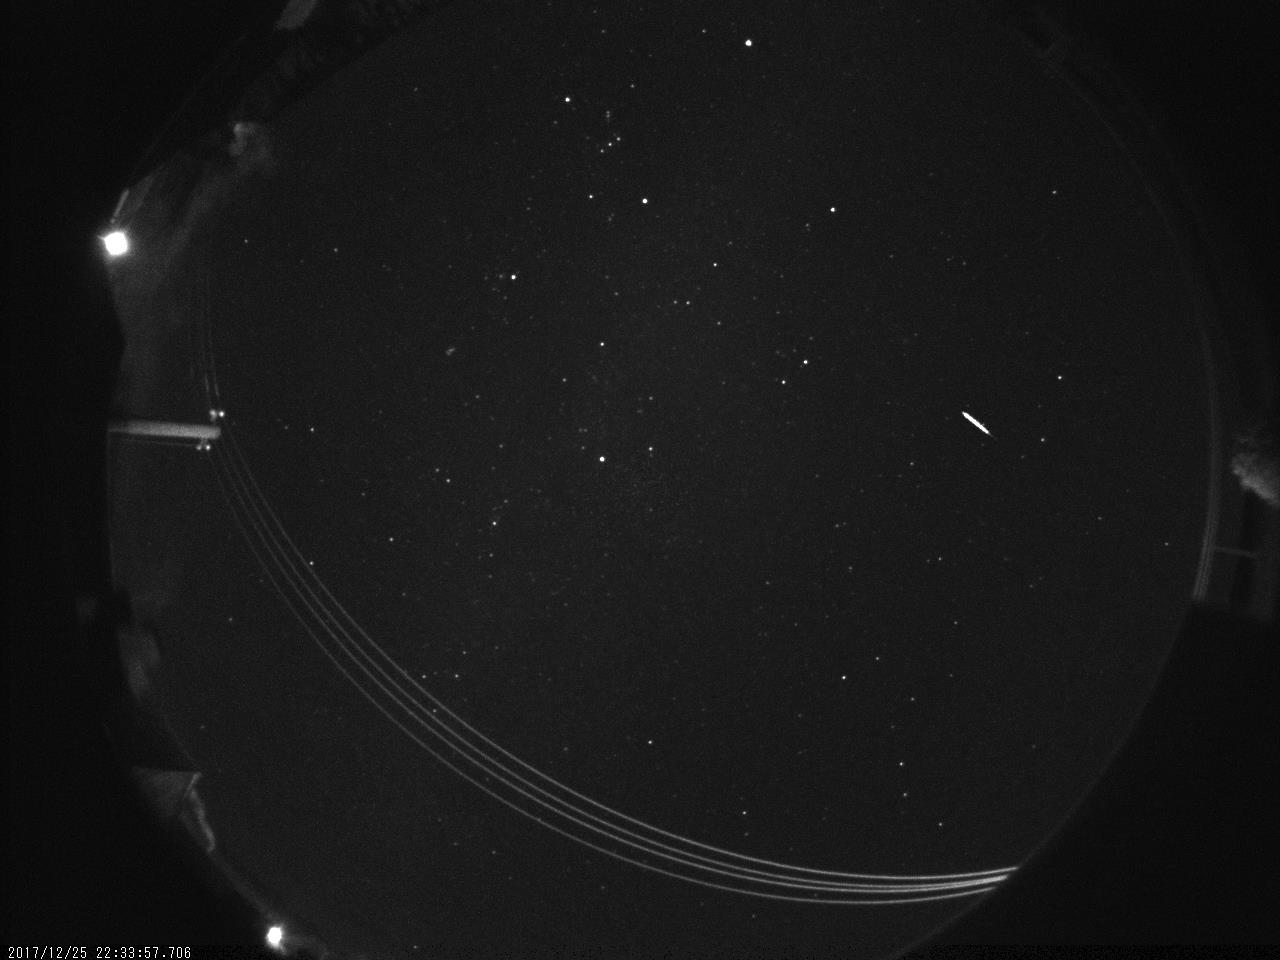meteor: (924, 394, 1019, 444)
